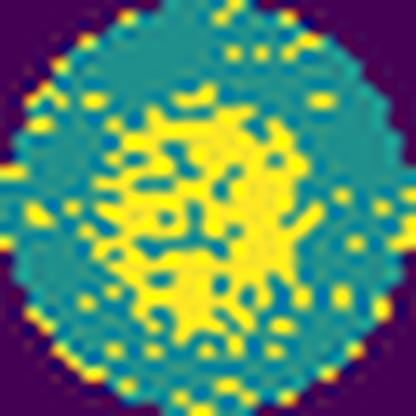Center: (89, 84, 322, 340)
